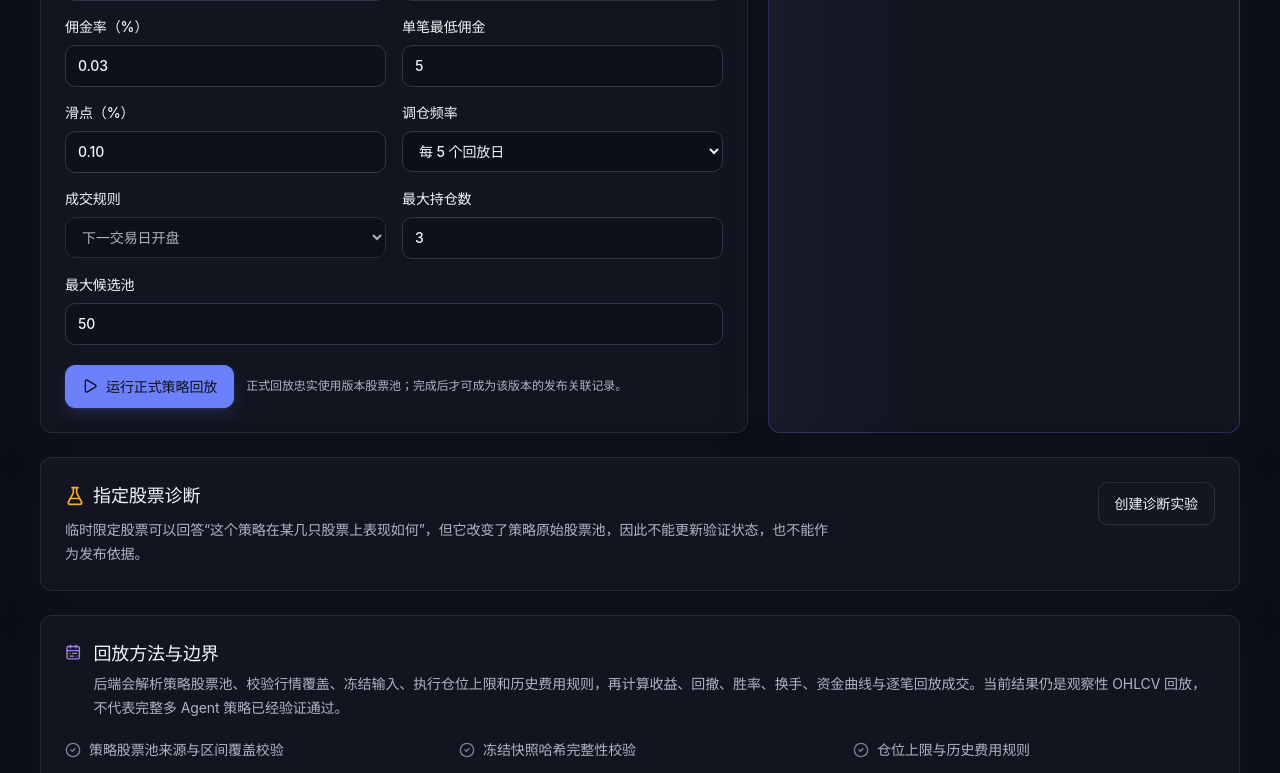
StrategyValidationPage › creates and executes a real validation experiment from enabled configuration
(page scrolled)
Click the button "运行正式策略回放": x=150, y=386 [65,365,234,408]
(page scrolled)
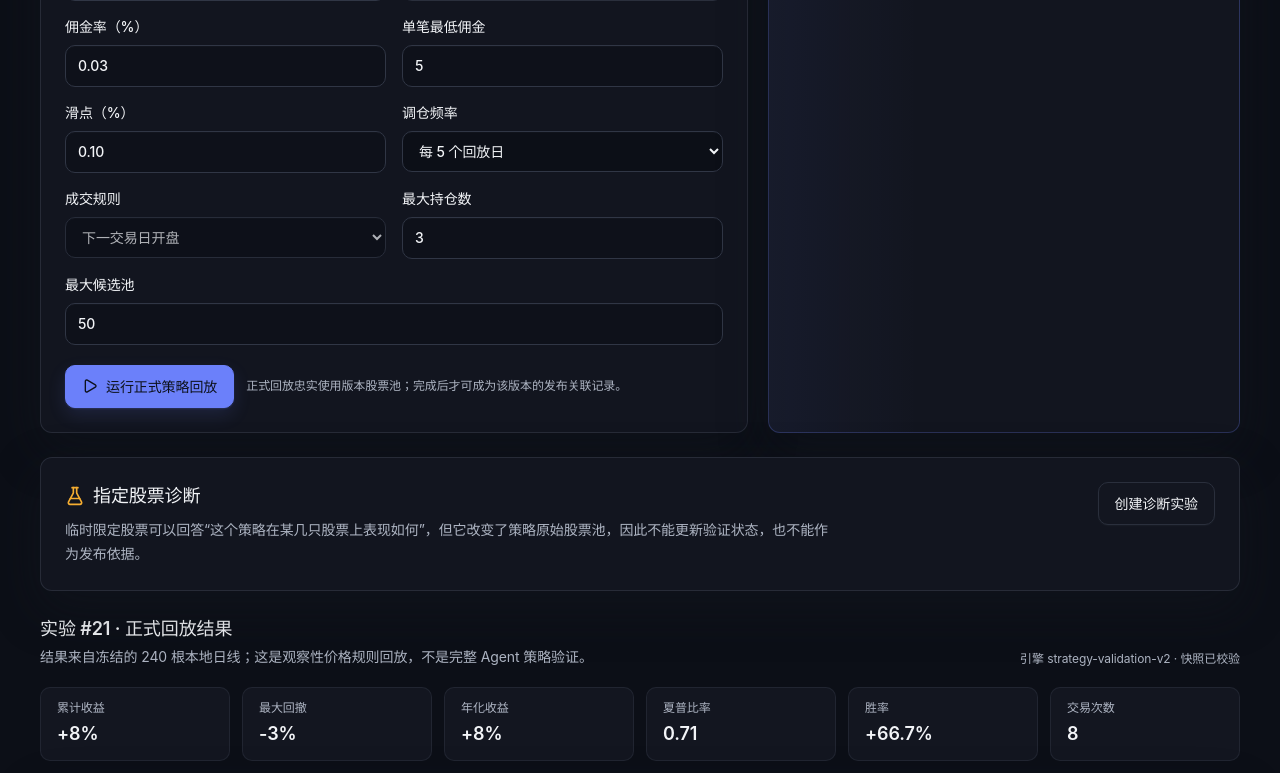
Now the text "累计收益" is shown, box [57,700,105,715]
Now the text "+8%" is shown 2 times, box [57,723,98,744]; [461,723,502,744]
Now the heading "实验 #21 · 正式回放结果" is shown, box [40,618,232,639]
